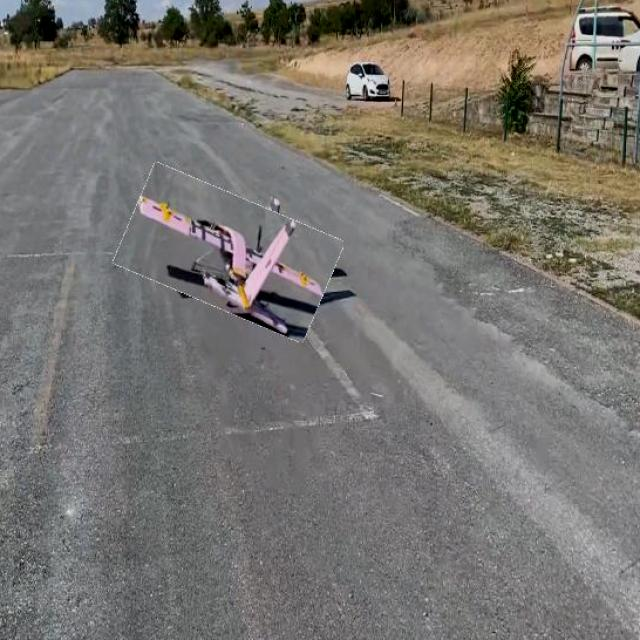plane: (133, 193, 350, 344)
